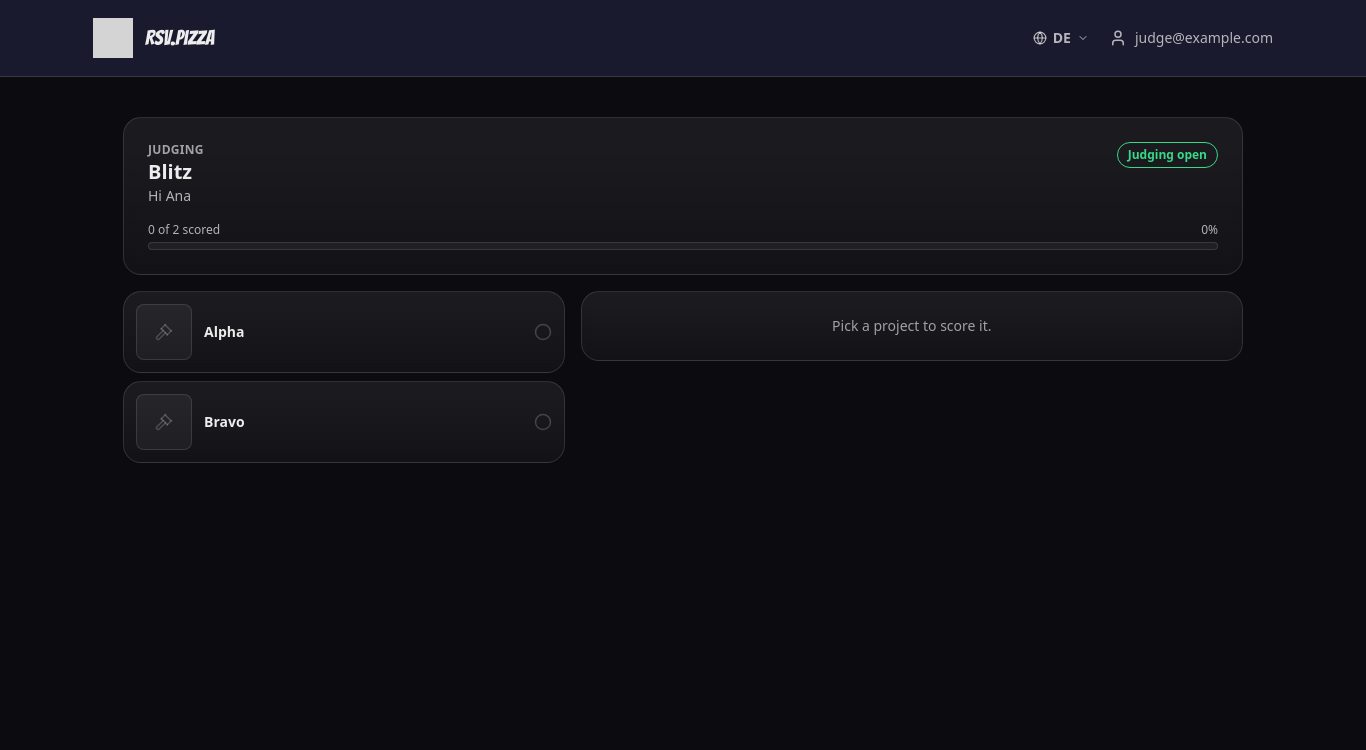
Test case: JudgePage: switching projects can never save to the wrong one › a save posts to the project the form belongs to, and a late response for A never replaces B
What coordinates should you click on to do the following:
click the button with test id "judge-queue-item"
I would click on:
 (164, 332)
Its box is [123,291,565,373].
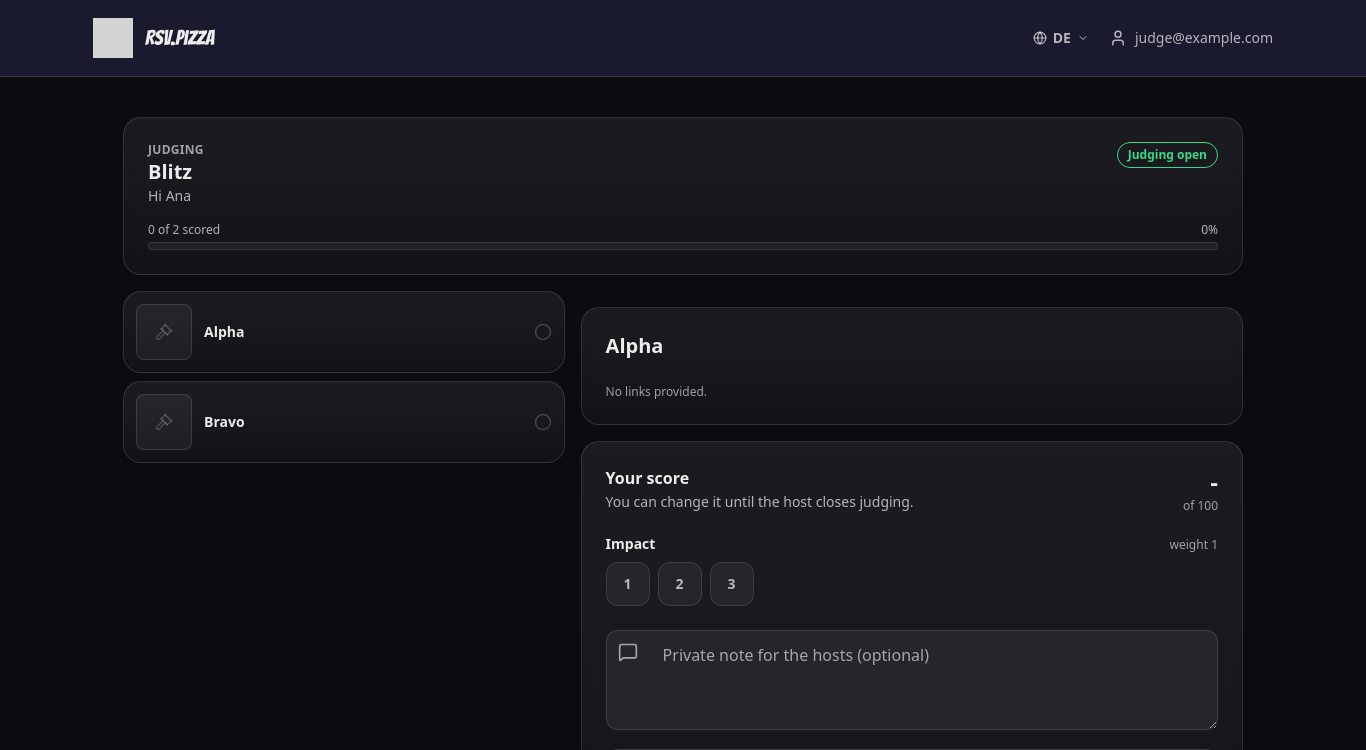
What coordinates should you click on to do the following:
click the radio button named "Impact: 2 of 3"
I would click on:
 (680, 584)
Its box is [658,562,702,606].
(page scrolled)
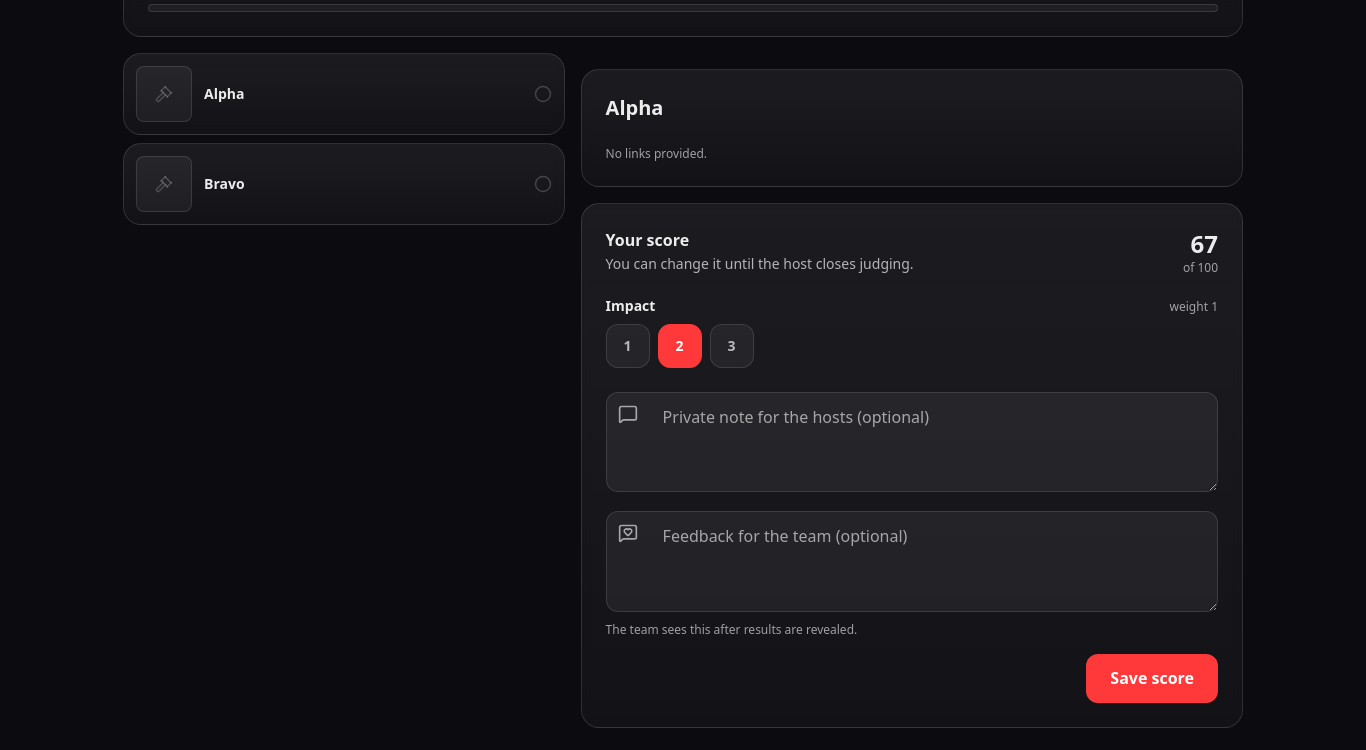
What coordinates should you click on to do the following:
click the button with test id "judge-save"
I would click on:
 (1152, 679)
Its box is [1086,654,1218,703].
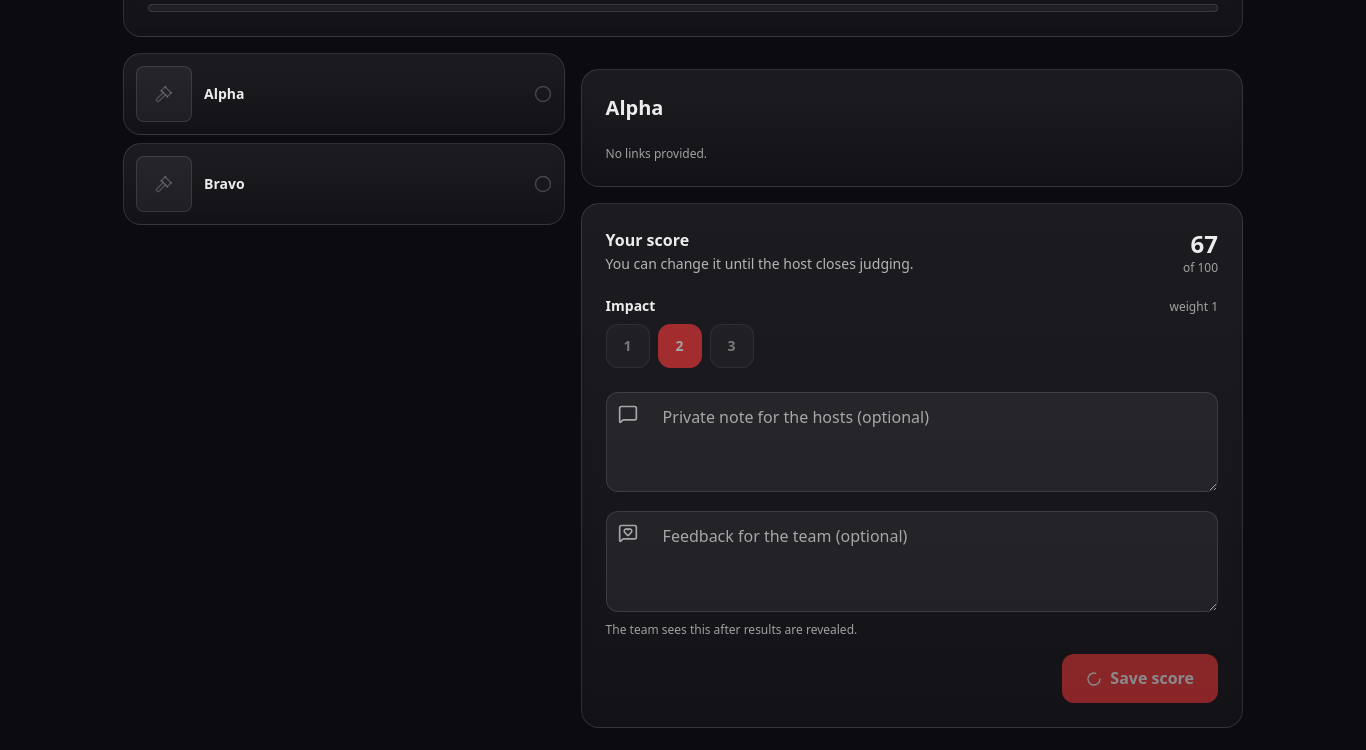
What coordinates should you click on to do the following:
click the button with test id "judge-queue-item"
I would click on:
 (164, 184)
Its box is [123,143,565,225].
(page scrolled)
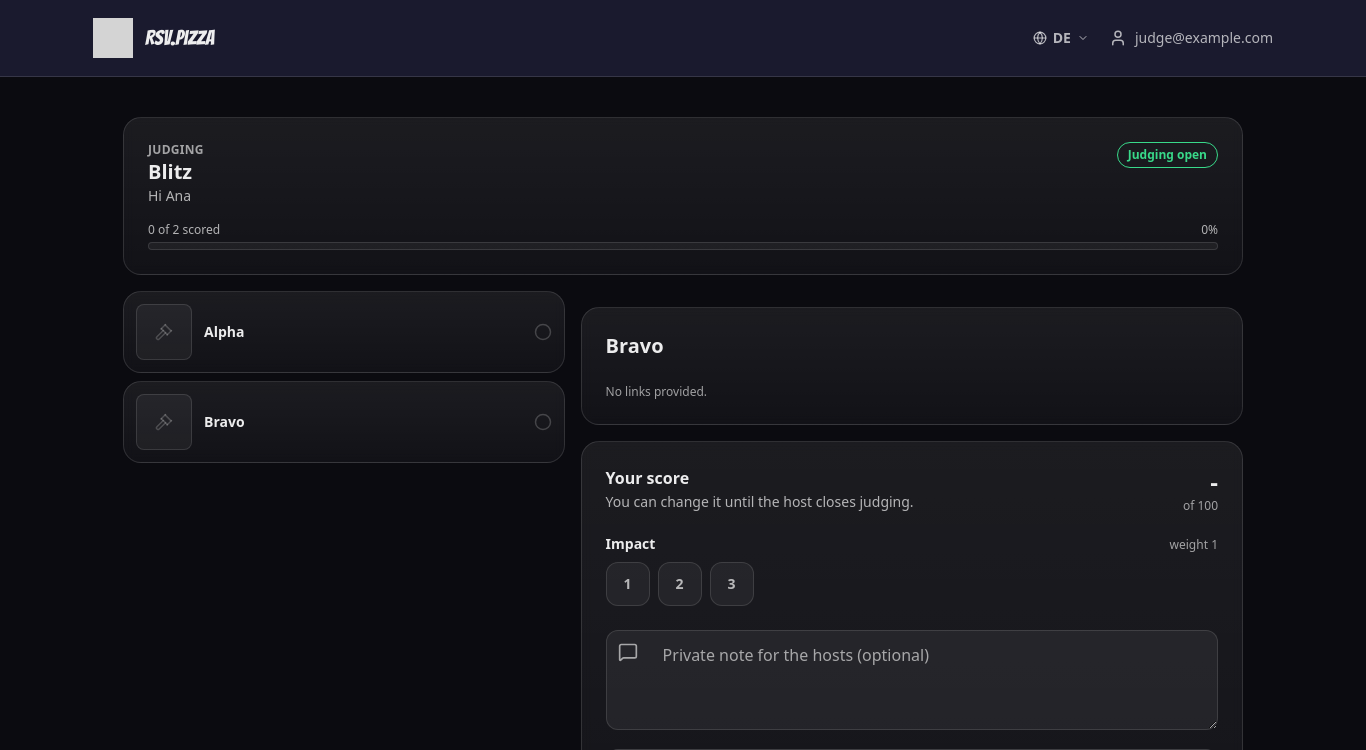
Expected: the heading "Bravo" is shown, [606,332,664,359]
